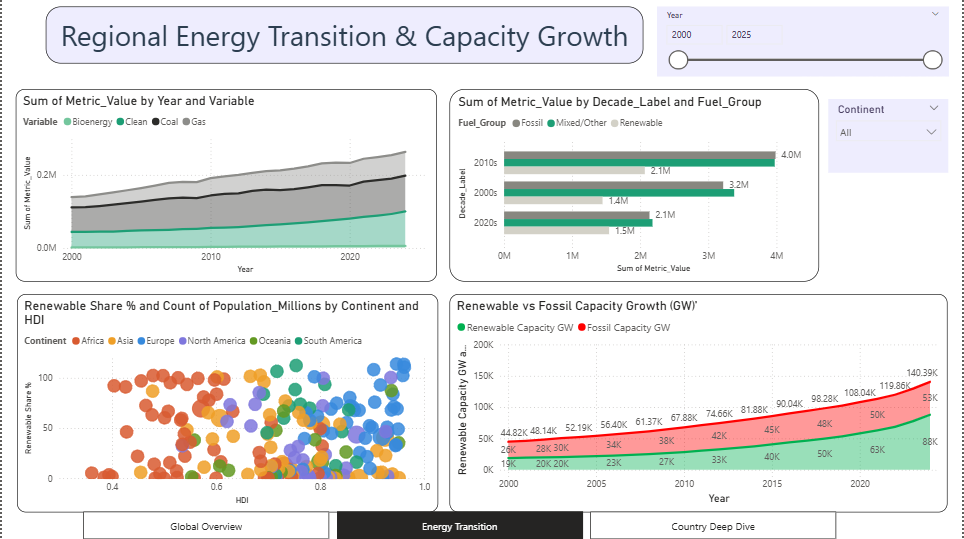

This screenshot's page, from the dashboard's own definition file:
{"tool":"powerbi","page":{"name":"Energy Transition","canvas":[1280,720],"ordinal":1},"visuals":[{"type":"stackedAreaChart","fields":{"Category":["Dim Date.Year"],"Y":["Sum(Fact Table.Metric_Value)"],"Series":["Fact Table.Variable"]},"box":[18.6,120,561.4,257.1],"z":0},{"type":"clusteredBarChart","fields":{"Category":["Dim Date.Decade_Label"],"Y":["Sum(Fact Table.Metric_Value)"],"Series":["Dim Fuel Type.Fuel_Group"]},"box":[597.1,120,492.9,257.1],"z":1000},{"type":"slicer","fields":{"Values":["Dim Geography.Continent"]},"box":[1101.4,132.9,160,98.6],"z":2000},{"type":"slicer","fields":{"Values":["Dim Date.Year"]},"box":[872.9,10,388.6,92.9],"z":3000},{"type":"stackedAreaChart","title":"Renewable vs Fossil Capacity Growth (GW)''","fields":{"Category":["Dim Date.Year"],"Y":["Table.Renewable Capacity GW","Table.Fossil Capacity GW"]},"box":[596.9,393.8,664.2,290.9],"z":4000},{"type":"textbox","box":[58.6,10,797.1,75.7],"z":5000},{"type":"scatterChart","fields":{"X":["Dim Geography.✅ HDI","Dim Date.Year"],"Y":["Table.Renewable Share %"],"Size":["CountNonNull(Dim Geography.✅ Population_Millions)"],"Series":["Dim Geography.Continent"]},"box":[19.2,393.8,561.2,290.9],"z":6000},{"type":"pageNavigator","box":[108.6,682.9,1005.7,37.1],"z":6001}]}

Visuals, with their boxes in screenshot pixels (x1, y1, x2, y2), scaled from the page's 1280x720 canvas onto the 964x539 screenshot:
stackedAreaChart - Dim Date.Year x Sum(Fact Table.Metric_Value): box=[14, 90, 437, 282]
clusteredBarChart - Dim Date.Decade_Label x Sum(Fact Table.Metric_Value): box=[450, 90, 821, 282]
slicer - Dim Geography.Continent: box=[829, 99, 950, 173]
slicer - Dim Date.Year: box=[657, 7, 950, 77]
"Renewable vs Fossil Capacity Growth (GW)''" stackedAreaChart: box=[450, 295, 950, 513]
textbox: box=[44, 7, 644, 64]
scatterChart - Dim Geography.✅ HDI x Dim Date.Year: box=[14, 295, 437, 513]
pageNavigator: box=[82, 511, 839, 538]
